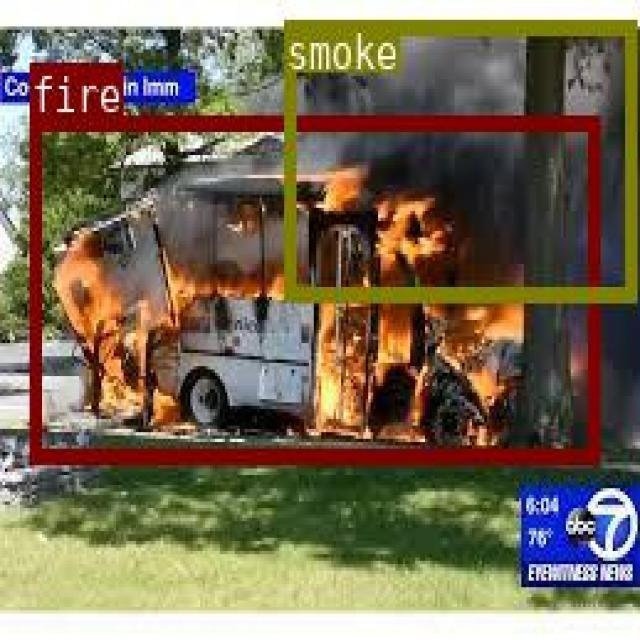fire: (28, 113, 596, 460)
smoke: (284, 17, 633, 299)
